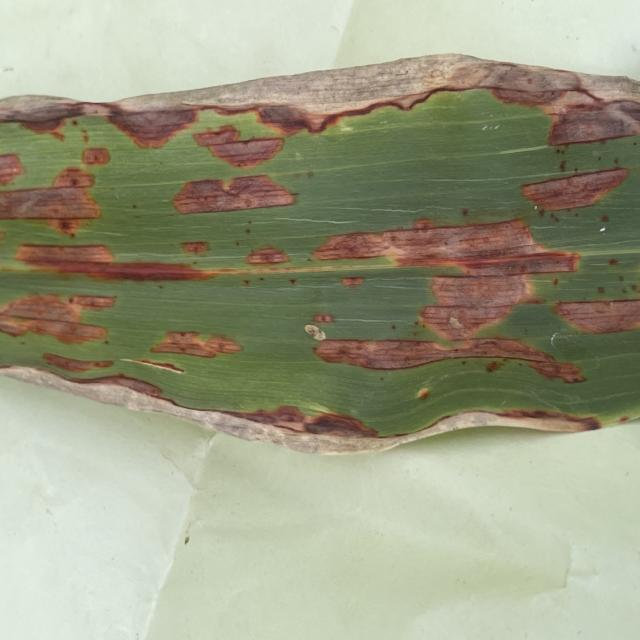millet_rust: (0, 47, 640, 463)
